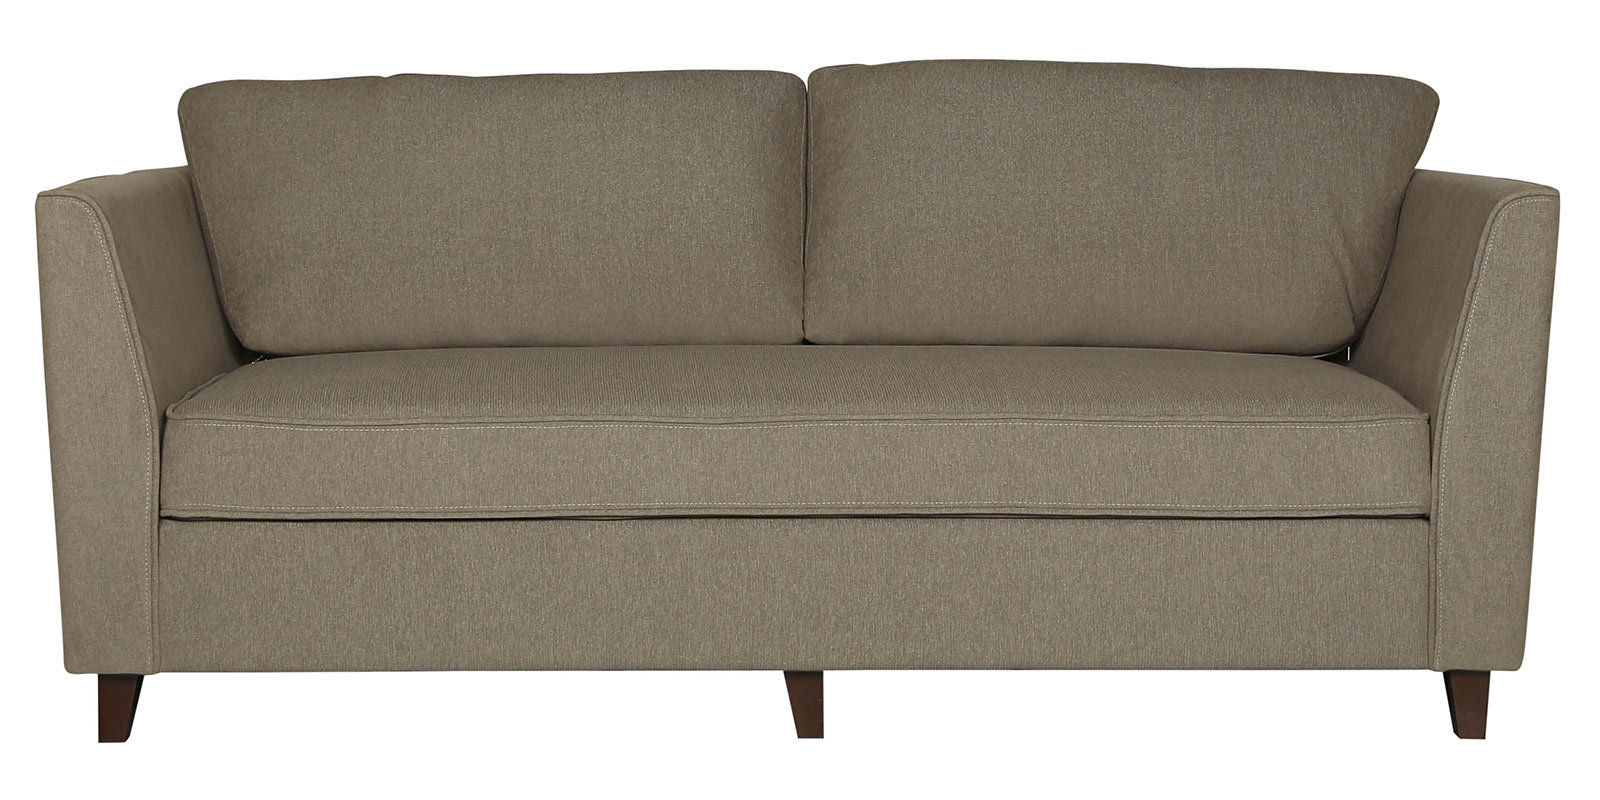Miranda Three Seater Sofa in Sandy Brown Colour by CasaCraft: (33, 62, 1562, 741)
